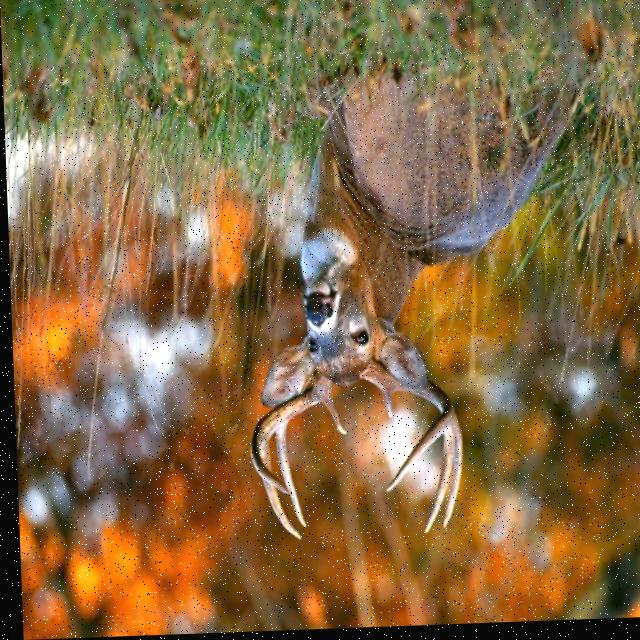L-F: (356, 360, 452, 496)
L-G1: (377, 391, 391, 422)
L-G3: (420, 423, 452, 537)
R-F: (247, 374, 330, 497)
R-G1: (319, 397, 344, 437)
R-G2: (272, 424, 303, 530)
